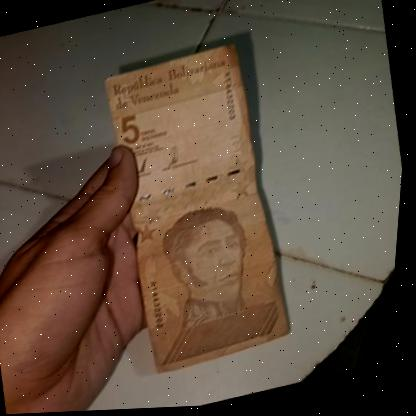five-front-vef: (87, 39, 310, 382)
